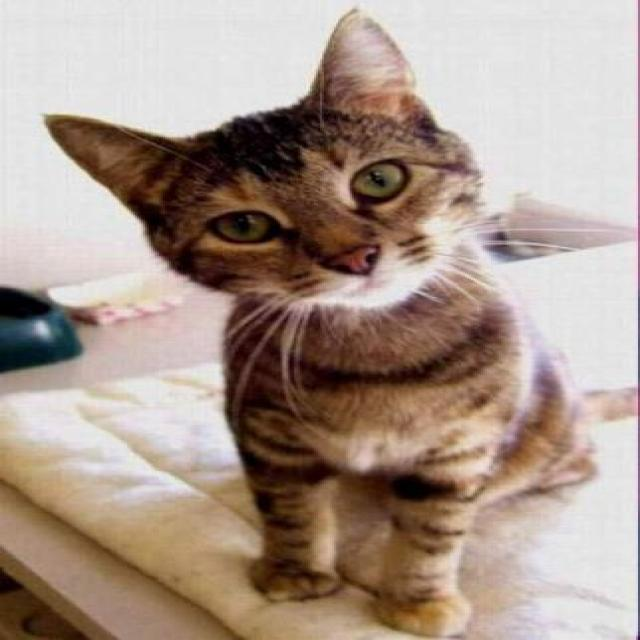Cats: (42, 4, 634, 637)
